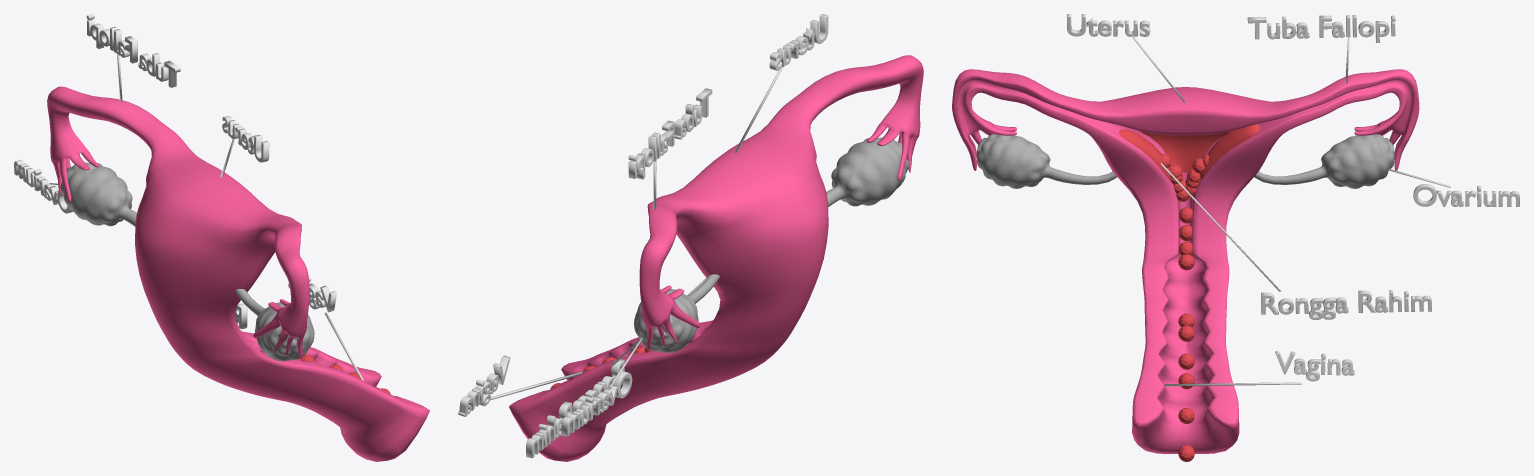
The model's file is fase4a.fbx.
The picture shows the model from 3 angles, left to right: view 1: azimuth 30°, elevation 25°; view 2: azimuth 150°, elevation 25°; view 3: azimuth 270°, elevation 25°; orthographic projection. The views are drawn at different scales.
Visible parts, largest first — view 1: Cube.001, Sphere, tuba fallopi, ovarium, uterus, vagina; view 2: Cube.001, Sphere, tuba fallopi, dinding rahim, ovarium, uterus, vagina; view 3: Cube.001, Sphere, dinding rahim, tuba fallopi, Cube.003, ovarium, vagina, uterus, Cube.004, Cube.002.
Boxes of the visible parts, x1,y1,x2,y2 form: Cube.001: (47,86,429,461); Sphere: (60,162,314,361); tuba fallopi: (86,14,180,87); ovarium: (14,159,73,213); uterus: (222,116,269,162); vagina: (288,276,336,312); Cube.001: (509,55,923,461); Sphere: (634,137,909,352); tuba fallopi: (628,88,712,179); dinding rahim: (526,359,624,458); ovarium: (561,371,632,436); uterus: (769,14,828,70); vagina: (458,355,510,416); Cube.001: (952,69,1419,453); Sphere: (976,134,1394,188); dinding rahim: (1261,290,1431,319); tuba fallopi: (1247,15,1395,42); Cube.003: (1139,131,1229,172); ovarium: (1413,184,1519,206); vagina: (1275,351,1354,381); uterus: (1066,14,1150,36); Cube.004: (1200,124,1259,179); Cube.002: (1119,129,1172,183).
Size of the model in its own units: 78.2 by 108 by 152.
Materials: 10 (3 with a texture image).
